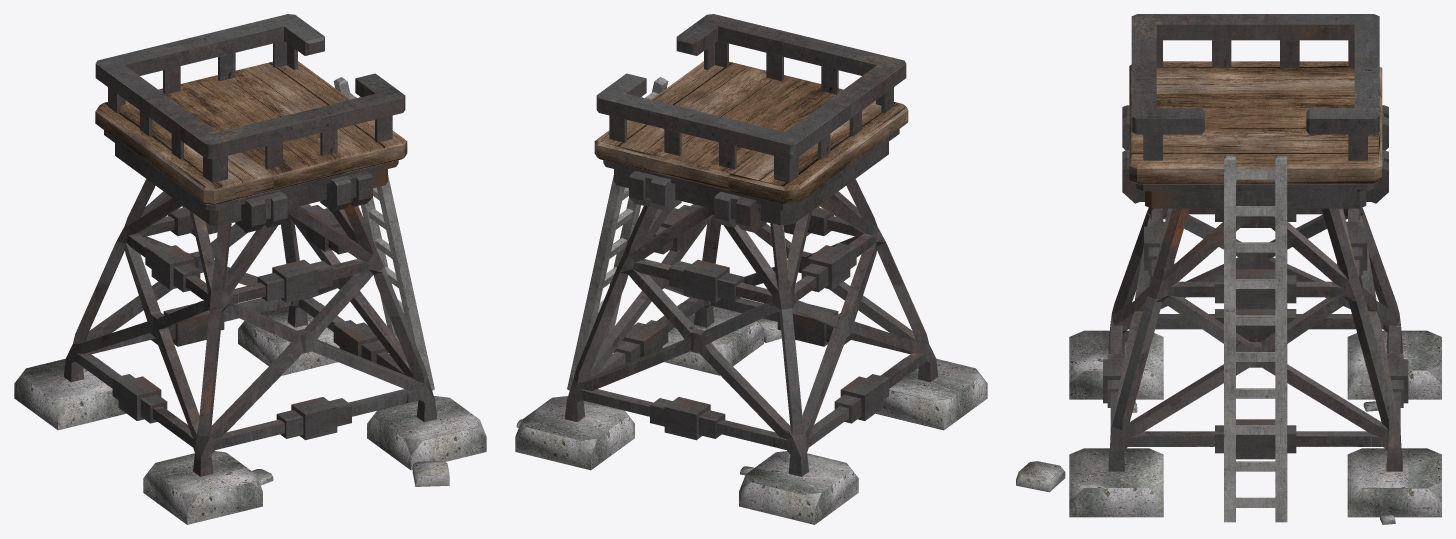
File: tower v3.fbx
3 renders of one model, left to right at view 1: azimuth 30°, elevation 25°; view 2: azimuth 150°, elevation 25°; view 3: azimuth 270°, elevation 25°, orthographic. The views are drawn at different scales.
Visible parts, largest first — view 1: tower v3; view 2: tower v3; view 3: tower v3.
Boxes of the visible parts, box(x1,y1,x2,y2) form: tower v3: box(14, 14, 486, 524); tower v3: box(515, 14, 987, 524); tower v3: box(1016, 14, 1441, 524).
Size of the model in its own units: 5.72 by 5.88 by 6.09.
